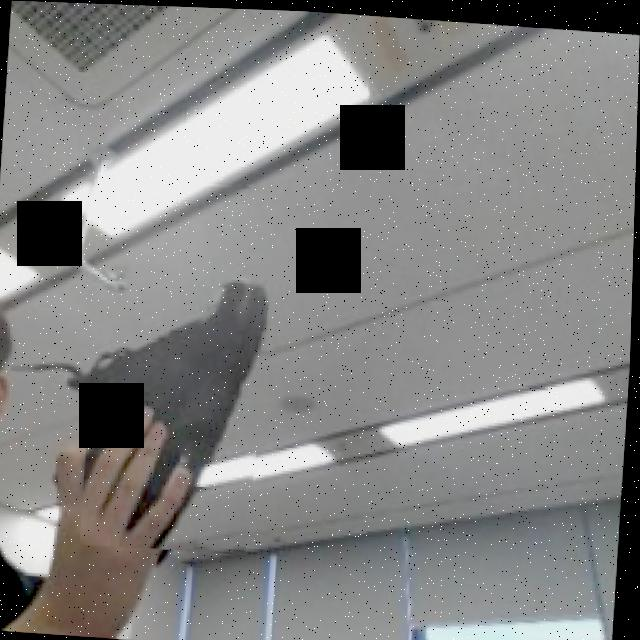shoe: (82, 263, 277, 555)
